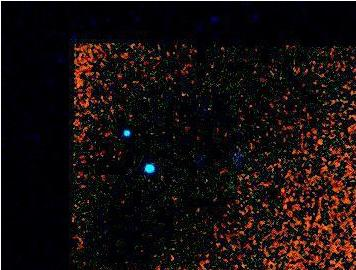star: (170, 84, 200, 114)
